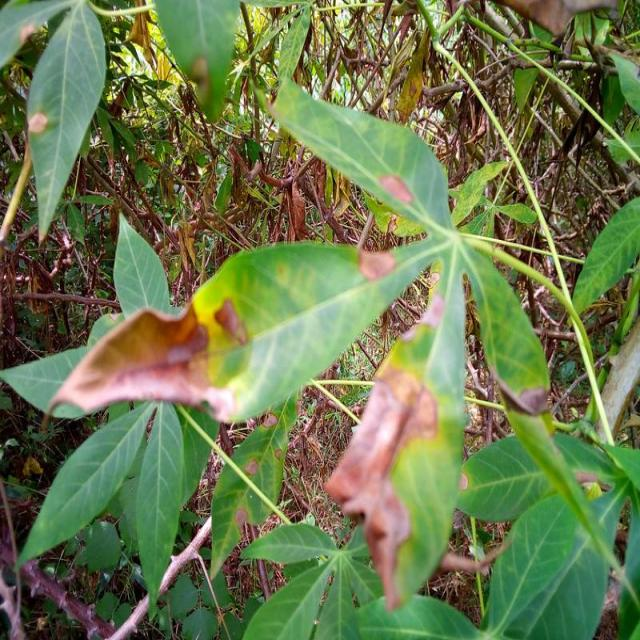cassava leaf: (41, 237, 436, 426), (26, 0, 108, 242)
